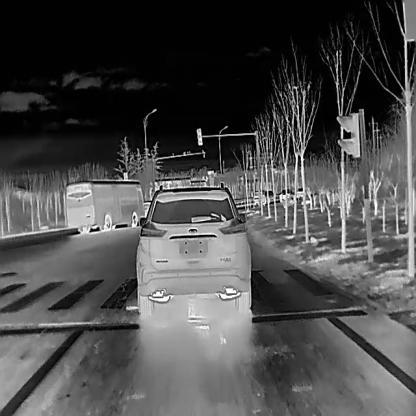car: (135, 182, 252, 315), (62, 178, 143, 234), (279, 188, 294, 202), (252, 190, 265, 206), (265, 189, 274, 204), (295, 186, 306, 198)
